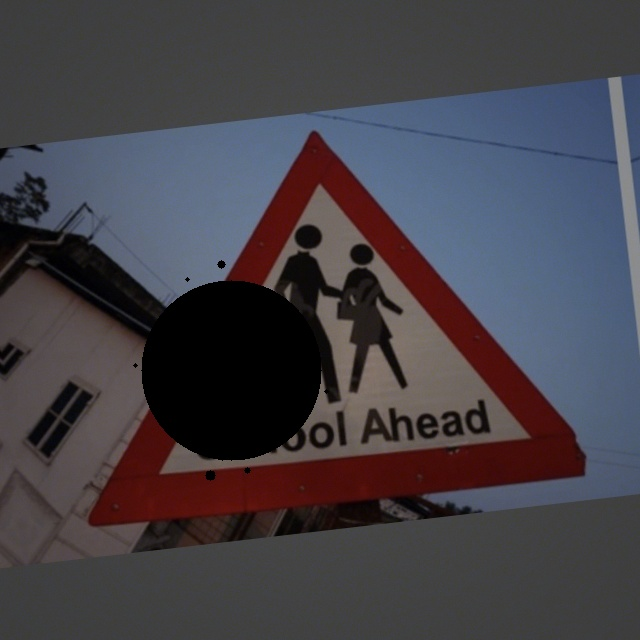School_Ahead: (102, 110, 566, 519)
